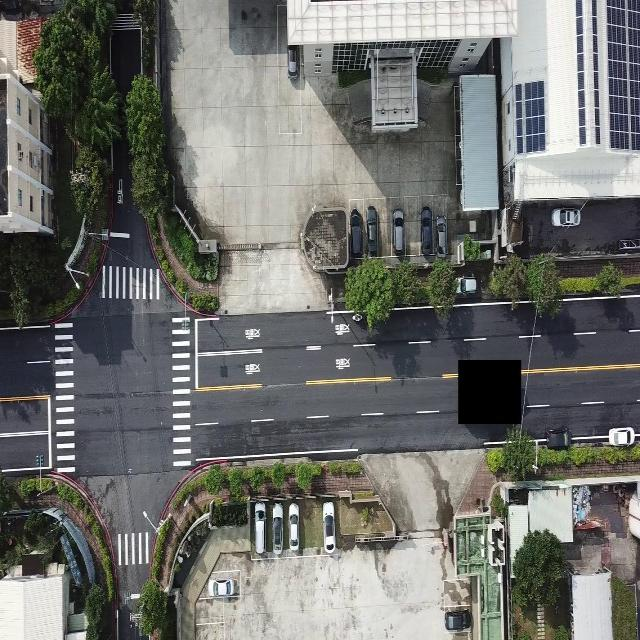car: (348, 206, 364, 259), (418, 205, 434, 257), (270, 502, 285, 556), (543, 428, 576, 452), (252, 501, 266, 556), (366, 203, 380, 258), (208, 575, 238, 600), (322, 501, 336, 554), (434, 213, 450, 257), (444, 607, 472, 632), (287, 502, 300, 554), (390, 208, 404, 255), (551, 206, 580, 227), (608, 425, 635, 446), (453, 273, 477, 296), (286, 41, 298, 78)
